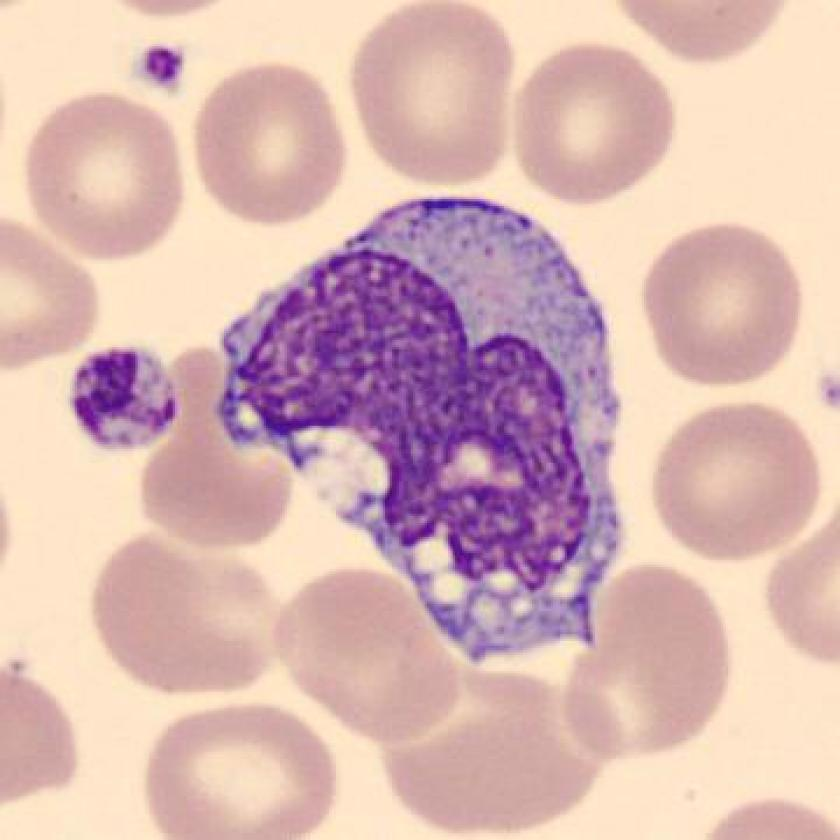monocyte: (206, 182, 650, 684)
